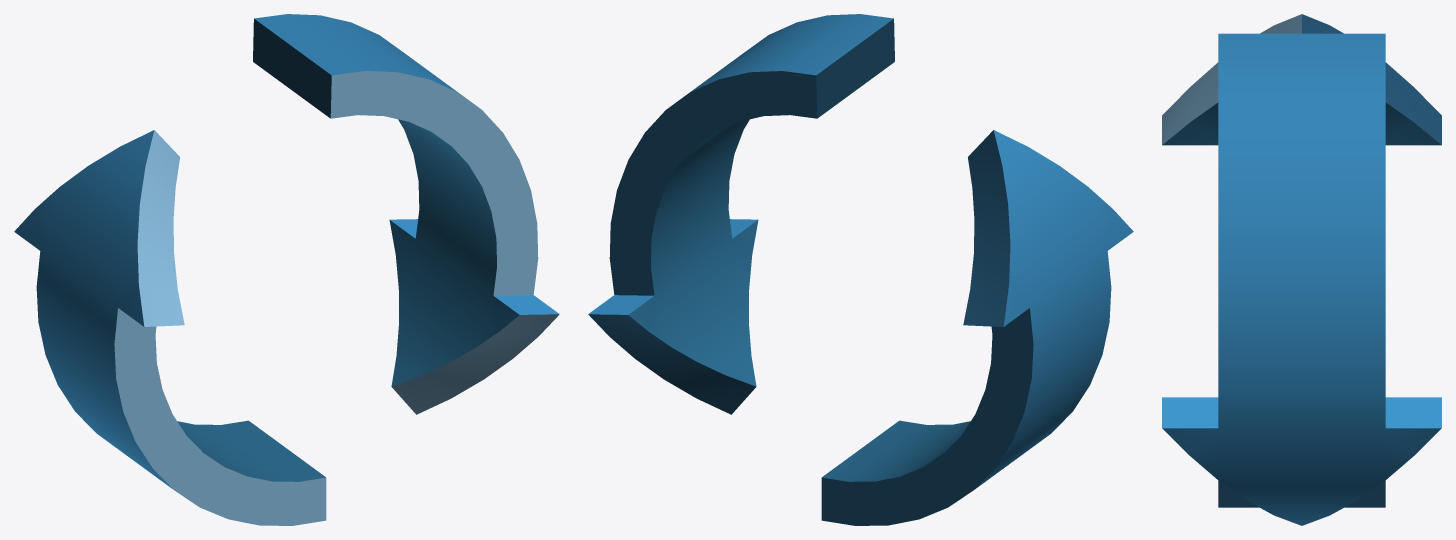
File: 3DIcon_ResumeArrows.FBX
3 renders of one model, left to right at view 1: azimuth 30°, elevation 25°; view 2: azimuth 150°, elevation 25°; view 3: azimuth 270°, elevation 25°, orthographic. The views are drawn at different scales.
Visible parts, largest first — view 1: ResumeArrows; view 2: ResumeArrows; view 3: ResumeArrows.
Boxes of the visible parts, box(x1,y1,x2,y2) form: ResumeArrows: box(14, 14, 559, 525); ResumeArrows: box(588, 14, 1133, 525); ResumeArrows: box(1162, 14, 1441, 525).
Bounding box in the file's own units: 62.89 × 62.94 × 33.48.
